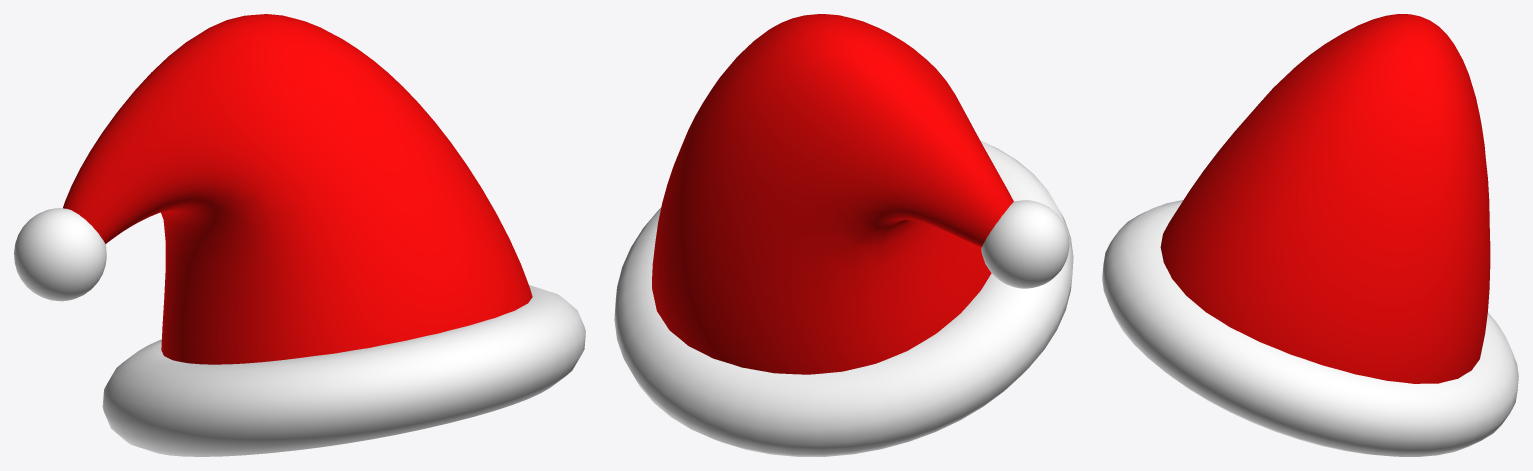
Rendered from 圣诞帽.fbx.
3 renders of one model, left to right at view 1: azimuth 30°, elevation 25°; view 2: azimuth 150°, elevation 25°; view 3: azimuth 270°, elevation 25°, orthographic. The views are drawn at different scales.
Visible parts, largest first — view 1: 立方体.062, 环体.001, 球体.002; view 2: 立方体.062, 环体.001, 球体.002; view 3: 立方体.062, 环体.001.
Part boxes in pixels (x1,y1,x2,y2): 立方体.062: [63, 14, 532, 364]; 环体.001: [102, 285, 585, 456]; 球体.002: [14, 208, 106, 301]; 立方体.062: [652, 14, 1013, 374]; 环体.001: [614, 141, 1073, 456]; 球体.002: [981, 200, 1069, 288]; 立方体.062: [1160, 14, 1490, 383]; 环体.001: [1102, 200, 1518, 456].
Bounding box in the file's own units: 105 × 85.68 × 86.57.
